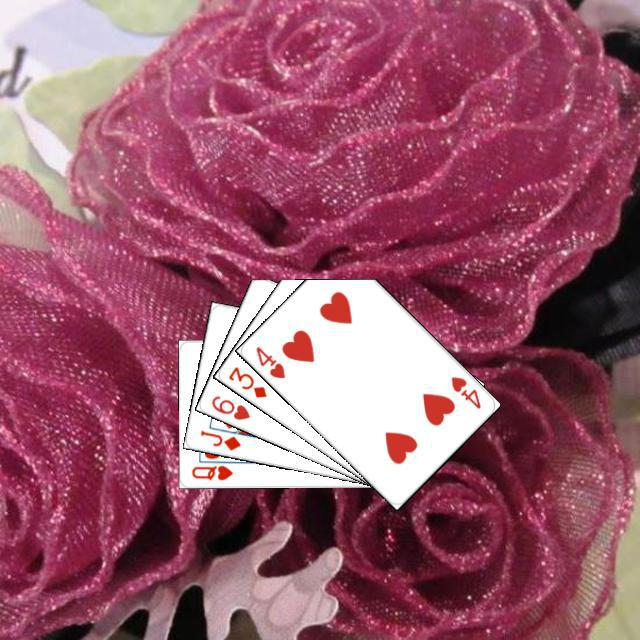3d: (223, 361, 269, 400)
4h: (446, 372, 483, 411), (251, 341, 287, 380)
6h: (206, 390, 252, 422)
Jd: (195, 425, 243, 452)
Qh: (187, 460, 234, 482)
